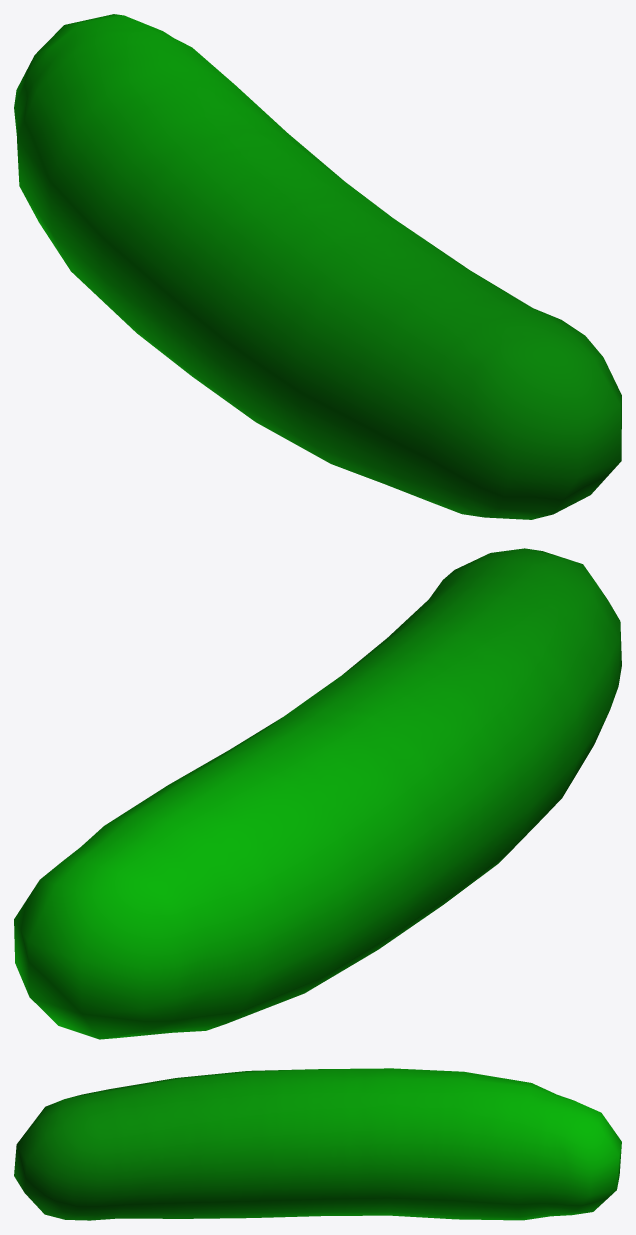
File: Cucumber.fbx
The picture shows the model from 3 angles, top to bottom: view 1: azimuth 30°, elevation 25°; view 2: azimuth 150°, elevation 25°; view 3: azimuth 270°, elevation 25°; orthographic projection. The views are drawn at different scales.
Visible parts, largest first — view 1: Cucumber; view 2: Cucumber; view 3: Cucumber.
Boxes of the visible parts, left/top/right/bottom form: Cucumber: left=14, top=14, right=621, bottom=519; Cucumber: left=14, top=548, right=621, bottom=1039; Cucumber: left=14, top=1068, right=621, bottom=1220.
Size of the model in its own units: 290 by 258 by 1052.
